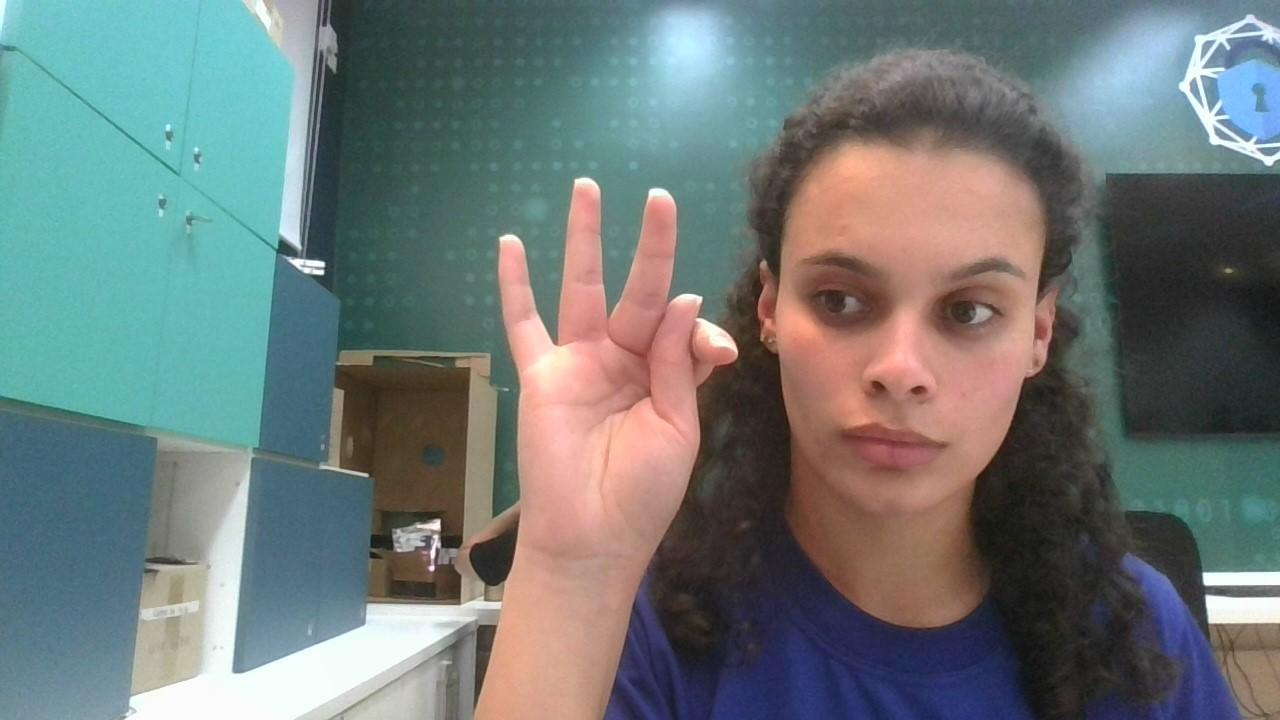T: (465, 165, 742, 540)
